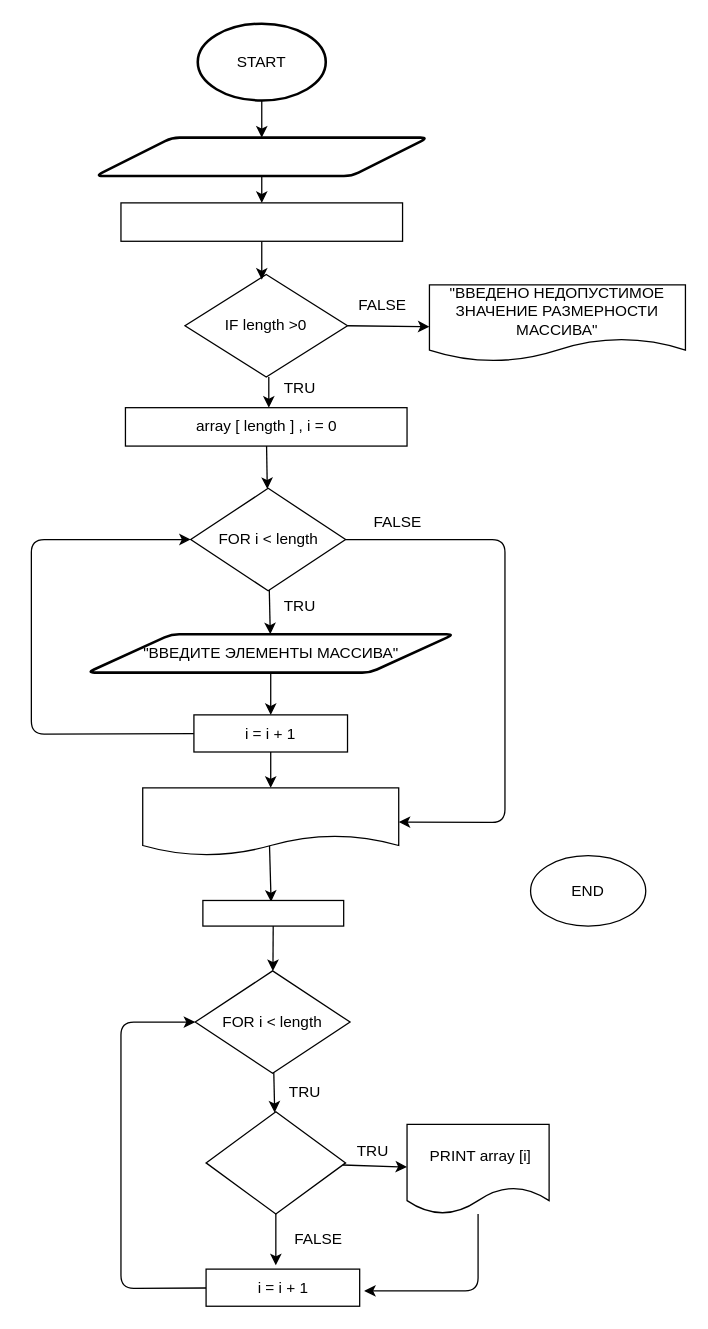
This 708x1329 diagram has some shape labels left out. Each missing label, with the centre of its shape:
"ВВЕДИТЕ РАЗМЕР МАССИВА": the point at 261,156
i = 0: the point at 273,912
IF array [i].Length =<3: the point at 275,1162
length = array.Length: the point at 261,221
Print array []: the point at 270,821
